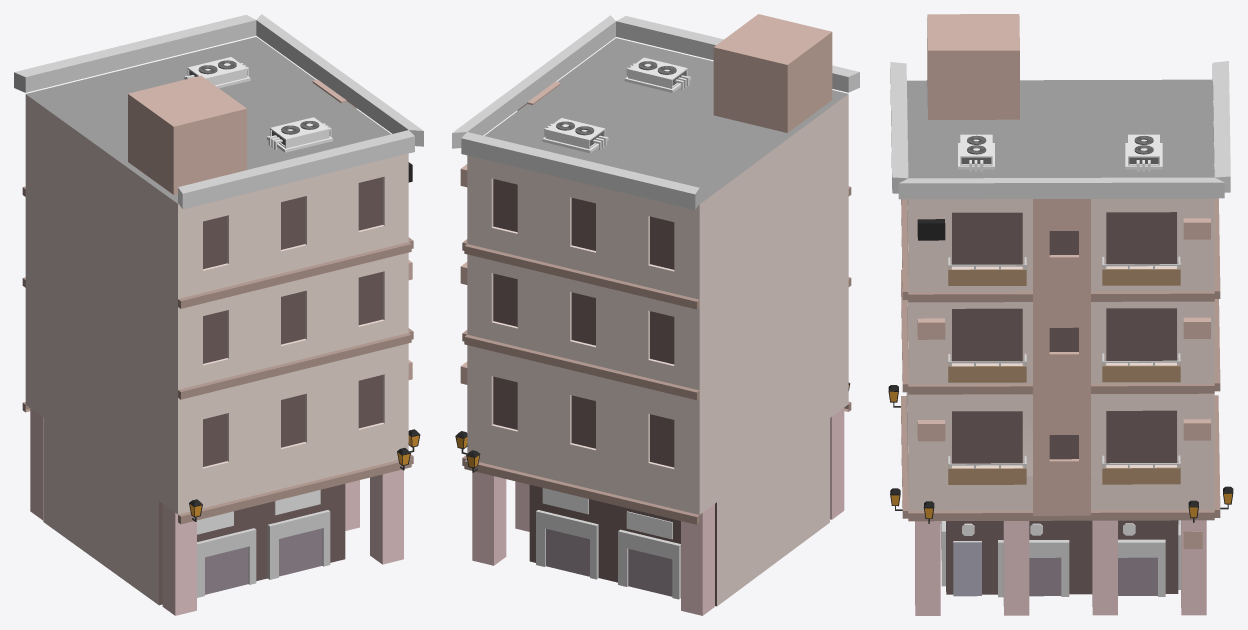
File: Building1_2.glb
The picture shows the model from 3 angles, left to right: view 1: azimuth 30°, elevation 25°; view 2: azimuth 150°, elevation 25°; view 3: azimuth 270°, elevation 25°; orthographic projection.
Visible parts, largest first — view 1: Building1Root; view 2: Building1Root; view 3: Building1Root.
Part boxes in pixels (bbox=[...]): Building1Root: bbox=[14, 14, 423, 615]; Building1Root: bbox=[452, 14, 859, 615]; Building1Root: bbox=[888, 14, 1233, 615].
Bounding box in the file's own units: 7.63 × 13.76 × 8.76.
